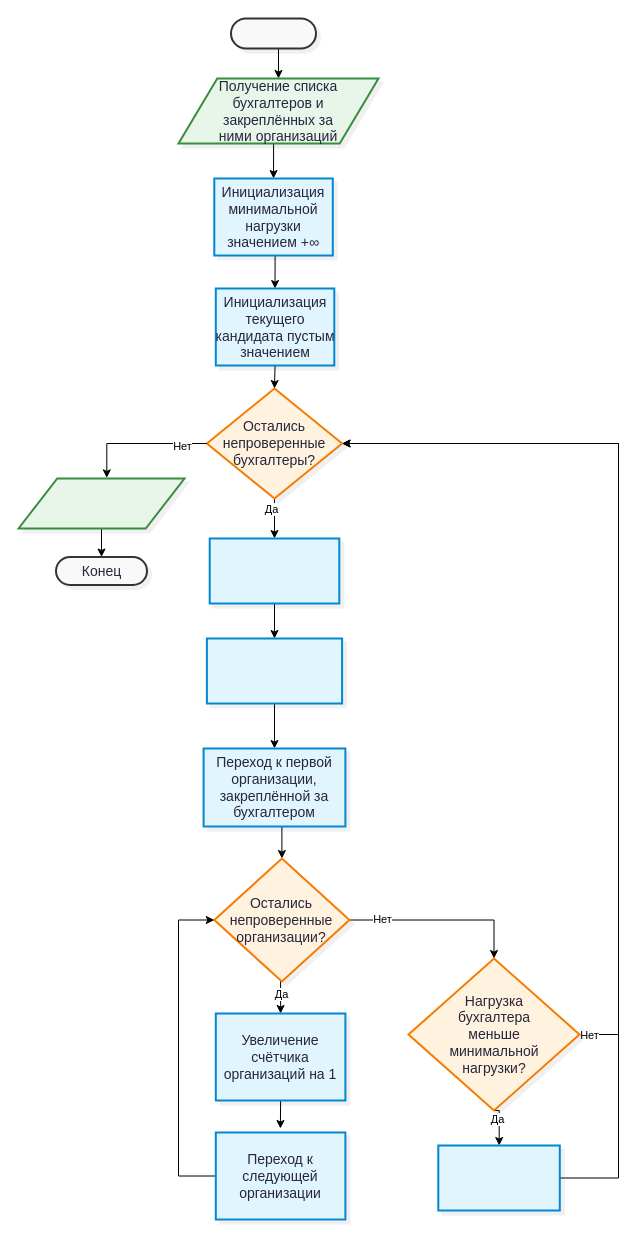
This 644x1241 diagram has some shape labels left out. The shapes that lost their labels are listed below. From the top down, each one's centre as x and y in pixels, then its label:
At (x=275, y=35): "Начало".
At (x=103, y=505): "Вывод: текущий кандидат".
At (x=276, y=572): "Выбор следующего бухгалтера".
At (x=276, y=672): "Инициализация счётчика организаций значением 0".
At (x=500, y=1179): "Обновление минимальной нагрузки и текущего кандидата".
